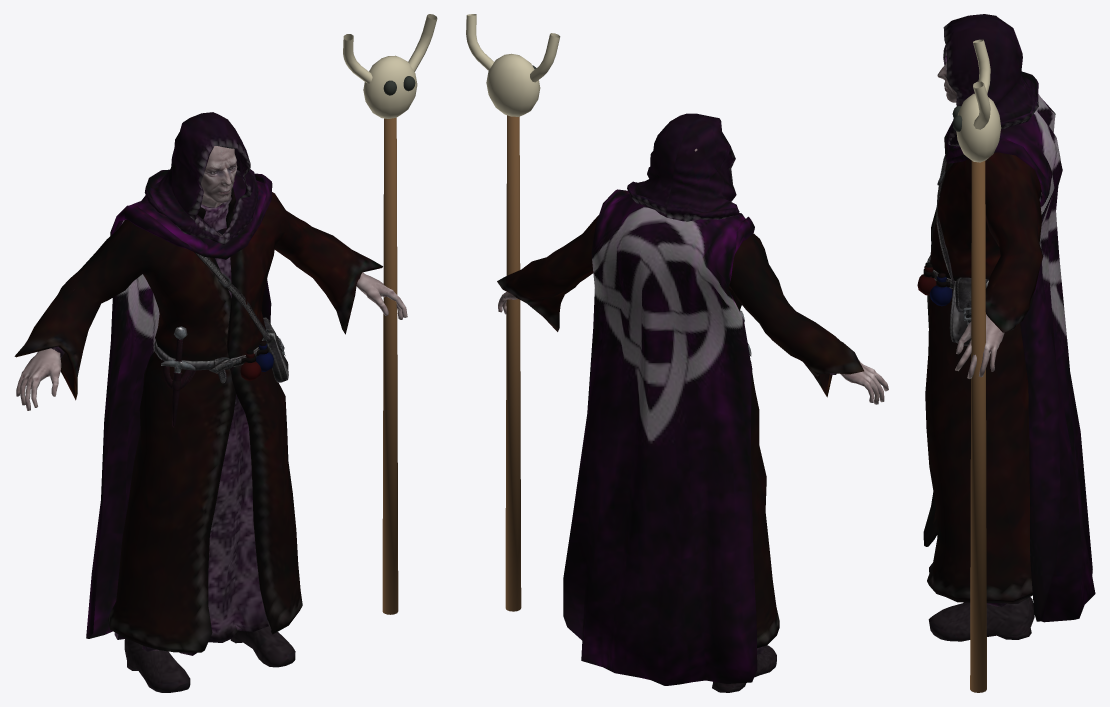
Rendered from actor-necromancer-mobile.glb.
3 renders of one model, left to right at view 1: azimuth 30°, elevation 25°; view 2: azimuth 150°, elevation 25°; view 3: azimuth 270°, elevation 25°, orthographic. The views are drawn at different scales.
Visible parts, largest first — view 1: mage · posed; view 2: mage · posed; view 3: mage · posed.
Boxes of the visible parts, x1,y1,x2,y2 form: mage · posed: (14,14,437,692); mage · posed: (466,14,888,692); mage · posed: (917,14,1095,692).
Size of the model in its own units: 1.58 by 2.17 by 0.5488.
Materials: 4 (1 with a texture image).
